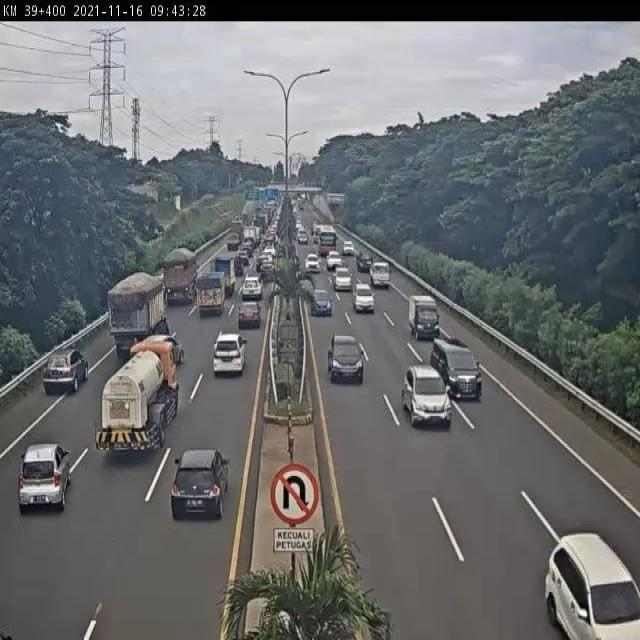Bus: (316, 224, 336, 253)
Car: (546, 534, 640, 637), (170, 448, 230, 520), (17, 442, 70, 512), (431, 336, 481, 401), (402, 363, 451, 428), (42, 348, 89, 395), (327, 334, 365, 385), (212, 330, 248, 376), (146, 333, 185, 368), (352, 282, 375, 314), (309, 287, 333, 317), (238, 301, 262, 329), (241, 274, 264, 301), (333, 266, 353, 292), (256, 252, 273, 272), (305, 253, 321, 274), (326, 251, 342, 271), (237, 246, 251, 267), (342, 240, 355, 256), (244, 238, 256, 252), (297, 230, 308, 245)
Truck: (92, 341, 181, 453), (106, 271, 172, 355), (161, 247, 199, 305), (408, 294, 439, 341), (197, 270, 226, 316), (210, 255, 237, 298), (369, 262, 390, 290), (356, 252, 373, 273), (230, 256, 244, 277), (243, 226, 257, 244), (227, 232, 240, 251), (230, 219, 244, 234)
